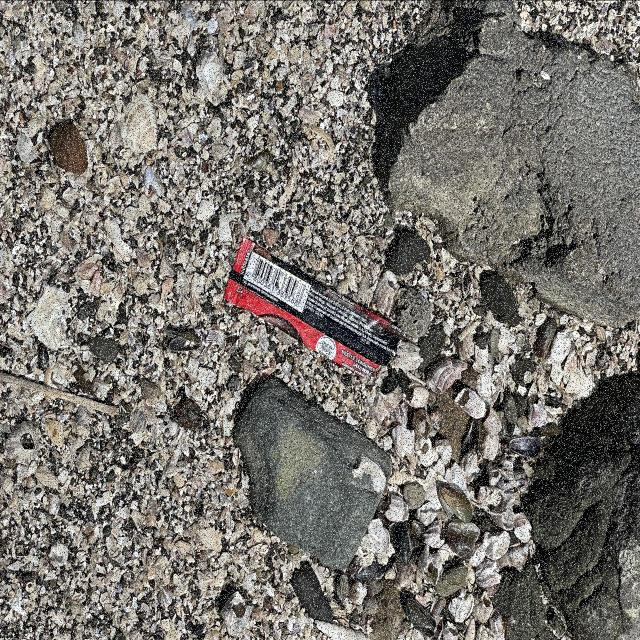plastic_waste: (223, 235, 409, 380)
